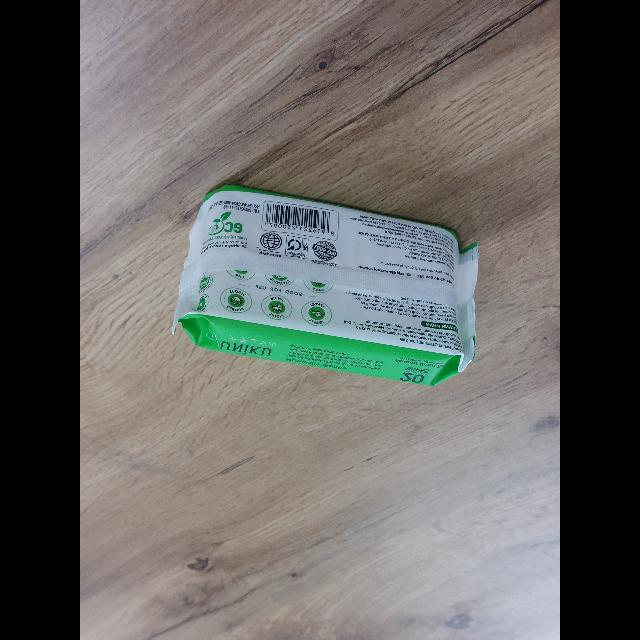khan_giay: (173, 181, 479, 385)
